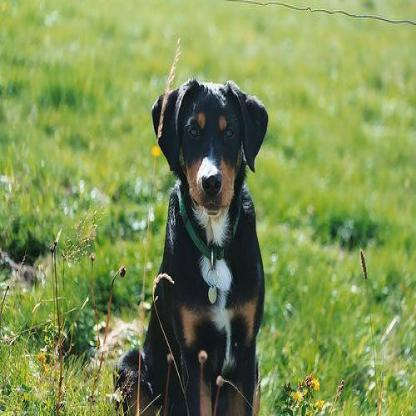Appenzeller: (112, 78, 270, 414)
